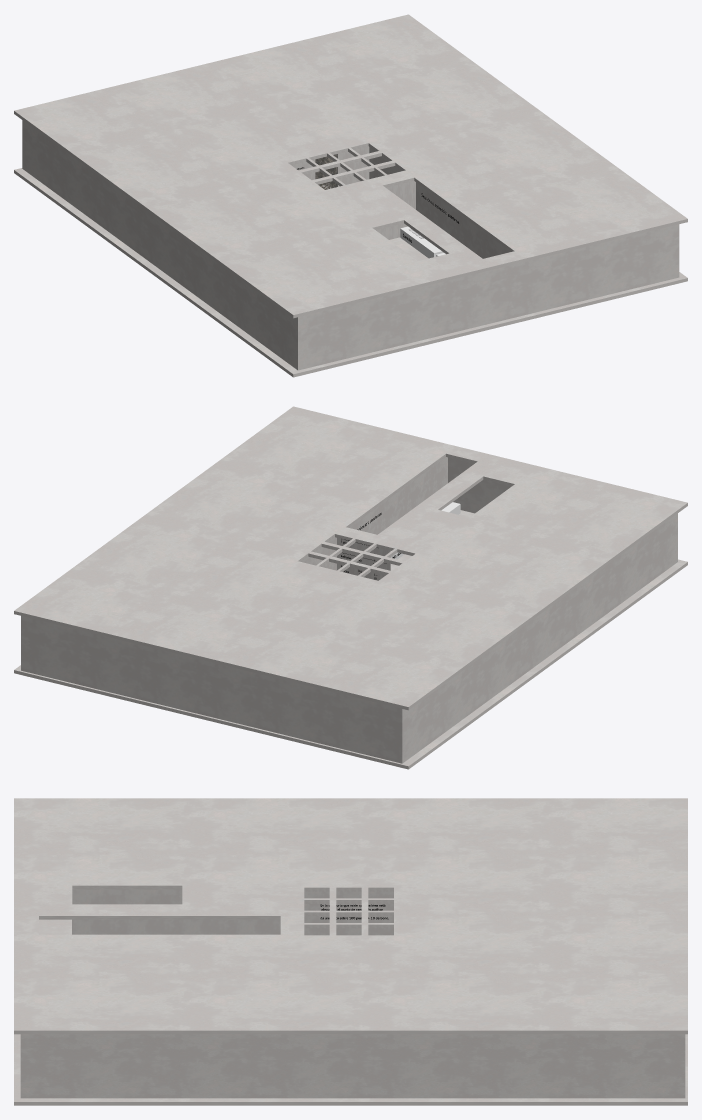
File: EscuelaDeEpica.glb
3 views of the same model, one above another, from view 1: azimuth 30°, elevation 25°; view 2: azimuth 150°, elevation 25°; view 3: azimuth 270°, elevation 25° (orthographic). The views are drawn at different scales.
Parts seen in each view (by area): view 1: Cube.034, Cube.026, Cube.002, Cube.027, Cube.028, Cube.032, Cube.035; view 2: Cube.034, Cube.026, Cube.002, Cube.027, Cube.032; view 3: Cube.034, Cube.026, Cube.029, Cube.002.
Boxes of the visible parts, box(x1,y1,x2,y2) form: Cube.034: box(14, 14, 687, 318); Cube.026: box(22, 120, 679, 370); Cube.002: box(14, 168, 687, 377); Cube.027: box(369, 147, 510, 258); Cube.028: box(291, 146, 369, 186); Cube.032: box(376, 181, 415, 239); Cube.035: box(400, 226, 443, 258); Cube.034: box(14, 406, 687, 710); Cube.026: box(21, 457, 677, 763); Cube.002: box(14, 510, 687, 769); Cube.027: box(301, 457, 447, 570); Cube.032: box(337, 537, 390, 580); Cube.034: box(14, 798, 687, 1034); Cube.026: box(20, 1034, 685, 1098); Cube.029: box(72, 889, 393, 935); Cube.002: box(14, 919, 687, 1105).
Size of the model in its own units: 43.18 by 6.52 by 52.94.
25 materials, 6 textured.
